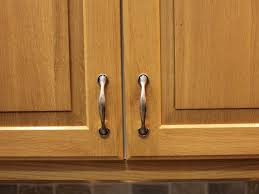cabinet door: (118, 10, 259, 155), (8, 6, 122, 157)
handle: (94, 71, 111, 142), (135, 73, 153, 132)
